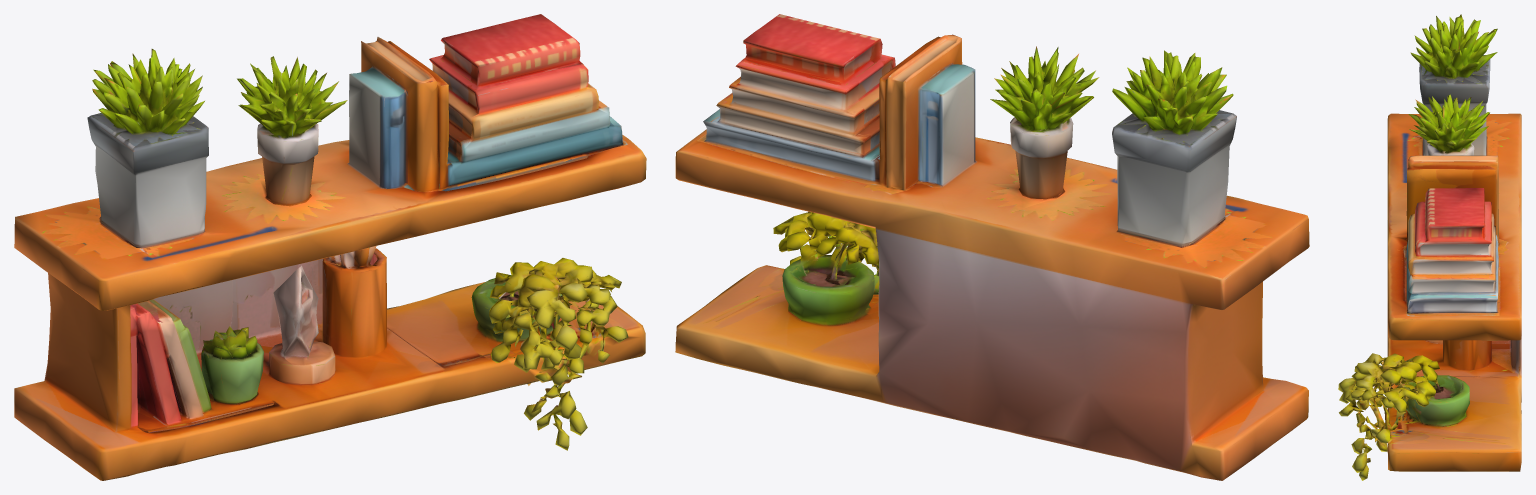
The model's file is raf.fbx.
3 views of the same model, side by side, from view 1: azimuth 30°, elevation 25°; view 2: azimuth 150°, elevation 25°; view 3: azimuth 270°, elevation 25° (orthographic). The views are drawn at different scales.
Parts seen in each view (by area): view 1: Mesh_0; view 2: Mesh_0; view 3: Mesh_0.
Boxes of the visible parts, x1,y1,x2,y2 form: Mesh_0: [14, 14, 646, 480]; Mesh_0: [675, 14, 1309, 480]; Mesh_0: [1338, 14, 1521, 480].
Bounding box in the file's own units: 191 × 144 × 73.23.
Materials: 1 (1 with a texture image).
